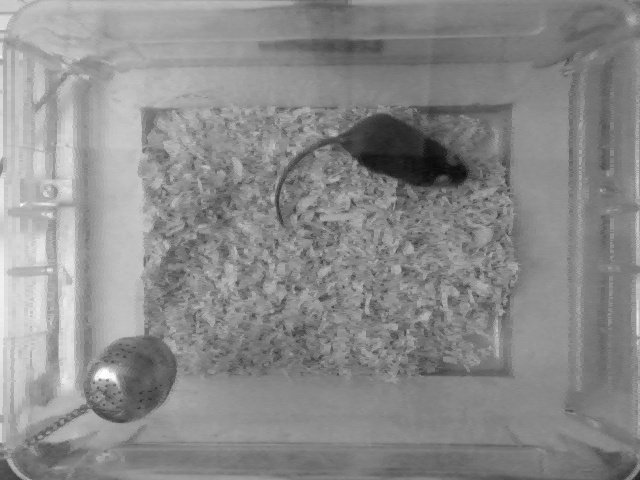mice: (267, 110, 480, 229)
